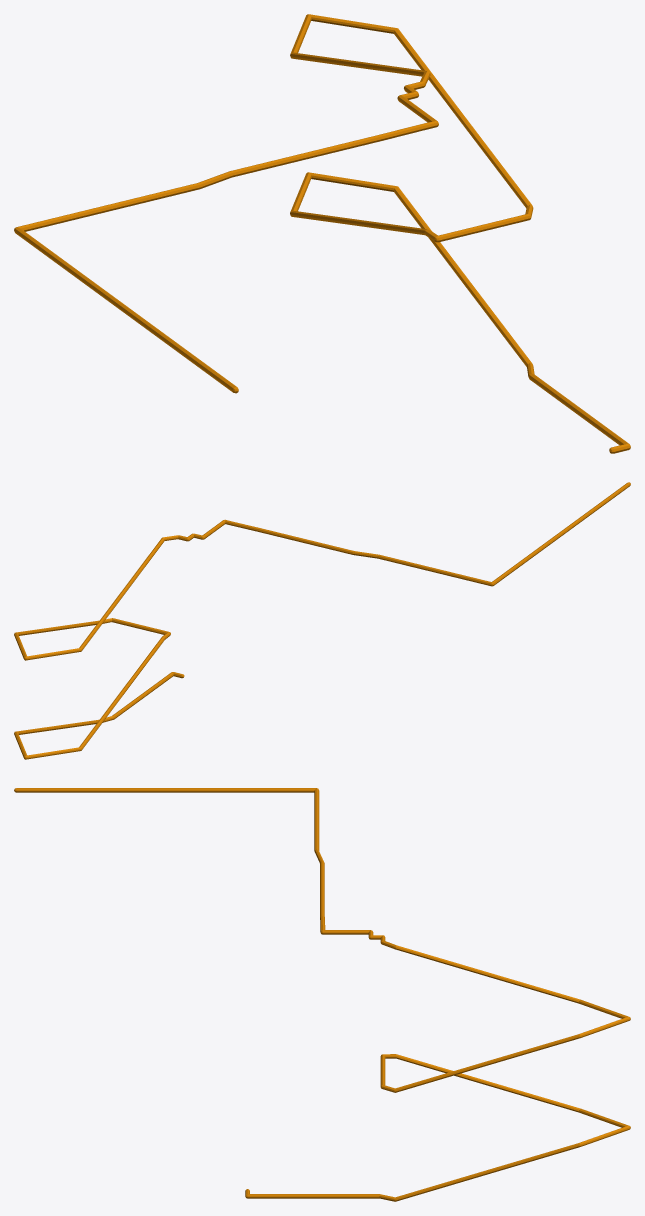
3 renders of one model, top to bottom at view 1: azimuth 30°, elevation 25°; view 2: azimuth 150°, elevation 25°; view 3: azimuth 270°, elevation 25°, orthographic. The views are drawn at different scales.
Bounding box in the file's own units: 1905 × 1020 × 2567.
